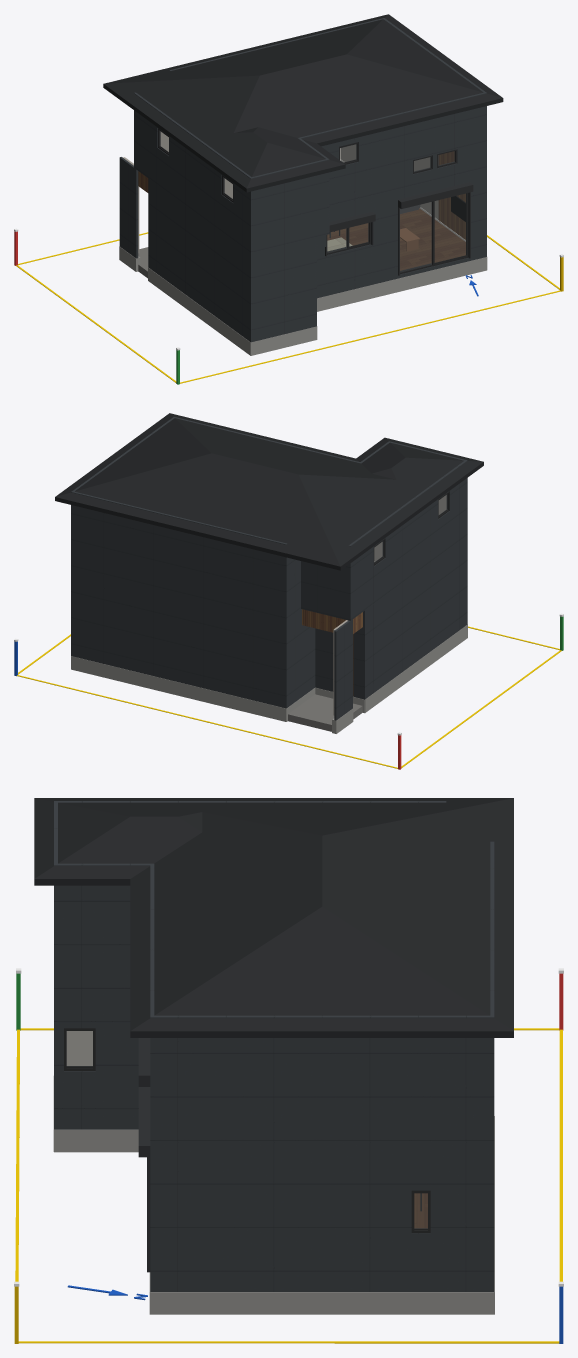
The model's file is B_24_half.glb.
3 views of the same model, one above another, from view 1: azimuth 30°, elevation 25°; view 2: azimuth 150°, elevation 25°; view 3: azimuth 270°, elevation 25° (orthographic). The views are drawn at different scales.
Parts seen in each view (by area): view 1: siding, roof, glass, found, floor, shutter, frame, lotline, wall, accent; view 2: siding, roof, found, lotline, tile, woodceil, wall; view 3: siding, roof, found, lotline, shutter, glass, wall, frame.
Boxes of the visible parts, <box> form: siding: <box>119,18,486,342</box>; roof: <box>103,14,503,192</box>; glass: <box>160,132,465,271</box>; found: <box>119,246,487,355</box>; floor: <box>327,208,465,270</box>; shutter: <box>325,182,473,275</box>; frame: <box>158,128,468,274</box>; lotline: <box>16,232,560,383</box>; wall: <box>123,131,438,253</box>; accent: <box>438,151,465,239</box>; siding: <box>71,417,467,720</box>; roof: <box>55,413,483,570</box>; found: <box>71,624,467,733</box>; lotline: <box>17,626,561,768</box>; tile: <box>288,694,362,731</box>; woodceil: <box>302,609,362,633</box>; wall: <box>333,495,446,715</box>; siding: <box>54,801,494,1291</box>; roof: <box>34,798,513,1037</box>; found: <box>53,1076,494,1314</box>; lotline: <box>15,1028,562,1343</box>; shutter: <box>138,1038,150,1272</box>; glass: <box>67,1031,427,1227</box>; wall: <box>66,1031,92,1065</box>; frame: <box>64,1028,430,1233</box>.
Bounding box in the file's own units: 14.14 × 7.01 × 10.42.
Materials: 31 (6 with a texture image).
